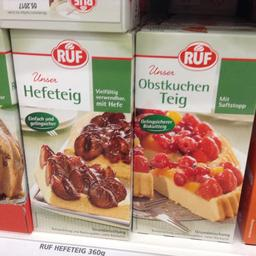cake: (8, 27, 134, 240), (134, 22, 255, 236)
